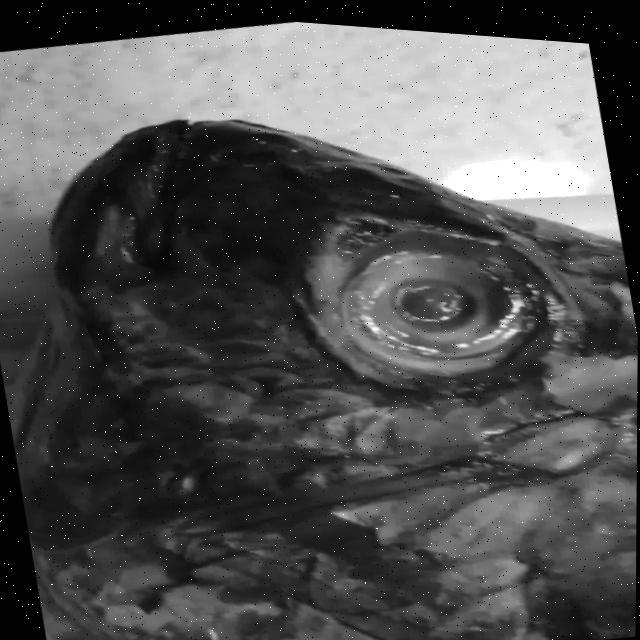Non-Fresh: (269, 180, 588, 437)
